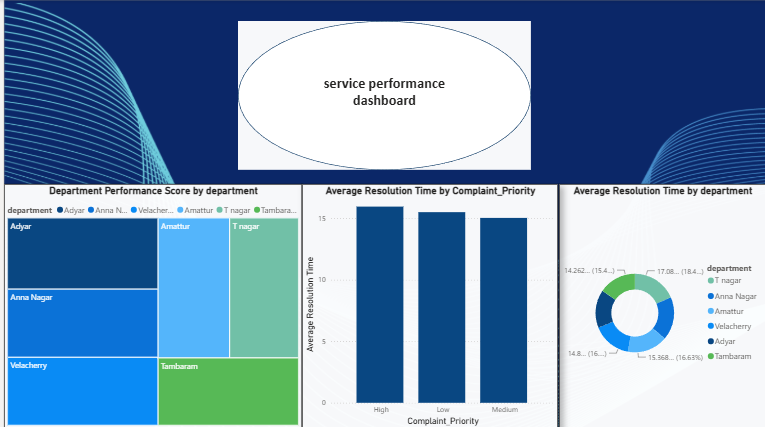

What the dashboard file says about the page in this screenshot:
{"tool":"powerbi","page":{"name":"service performance dashboard","canvas":[1280,720],"ordinal":6},"visuals":[{"type":"treemap","fields":{"Values":["Smart_city xlsx.Department Performance Score"],"Group":["Smart_city xlsx.department"]},"box":[0,309.1,500.6,411.5],"z":0},{"type":"donutChart","fields":{"Category":["Smart_city xlsx.department"],"Y":["Smart_city xlsx.Average Resolution Time"]},"box":[932.3,309.1,347.7,411.5],"z":1000},{"type":"clusteredColumnChart","fields":{"Category":["Smart_city xlsx.Complaint_Priority"],"Y":["Smart_city xlsx.Average Resolution Time"]},"box":[500.6,309.1,430,411.5],"z":2000},{"type":"shape","box":[393.1,35.3,492.2,250.3],"z":2001},{"type":"textbox","box":[530.8,119.3,216.7,82.3],"z":2002}]}

Visuals, with their boxes in screenshot pixels (x1, y1, x2, y2), scaled from the page's 1280x720 canvas onto the 765x427 screenshot:
treemap - Smart_city xlsx.Department Performance Score x Smart_city xlsx.department: bbox(0, 183, 299, 426)
donutChart - Smart_city xlsx.department x Smart_city xlsx.Average Resolution Time: bbox(557, 183, 764, 426)
clusteredColumnChart - Smart_city xlsx.Complaint_Priority x Smart_city xlsx.Average Resolution Time: bbox(299, 183, 556, 426)
shape: bbox(235, 21, 529, 169)
textbox: bbox(317, 71, 447, 120)
